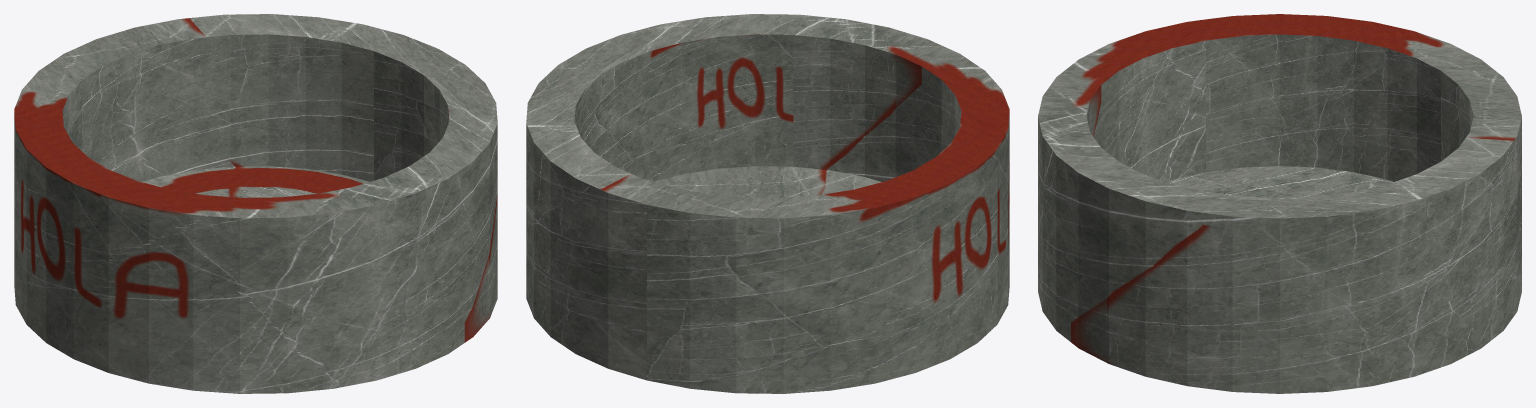
The model's file is well.fbx.
3 views of the same model, side by side, from view 1: azimuth 30°, elevation 25°; view 2: azimuth 150°, elevation 25°; view 3: azimuth 270°, elevation 25° (orthographic).
Parts seen in each view (by area): view 1: Cylinder; view 2: Cylinder; view 3: Cylinder.
Boxes of the visible parts, bbox=[...] form: Cylinder: bbox=[14, 14, 497, 393]; Cylinder: bbox=[526, 14, 1009, 393]; Cylinder: bbox=[1038, 14, 1521, 393].
Size of the model in its own units: 1000 by 1000 by 400.
